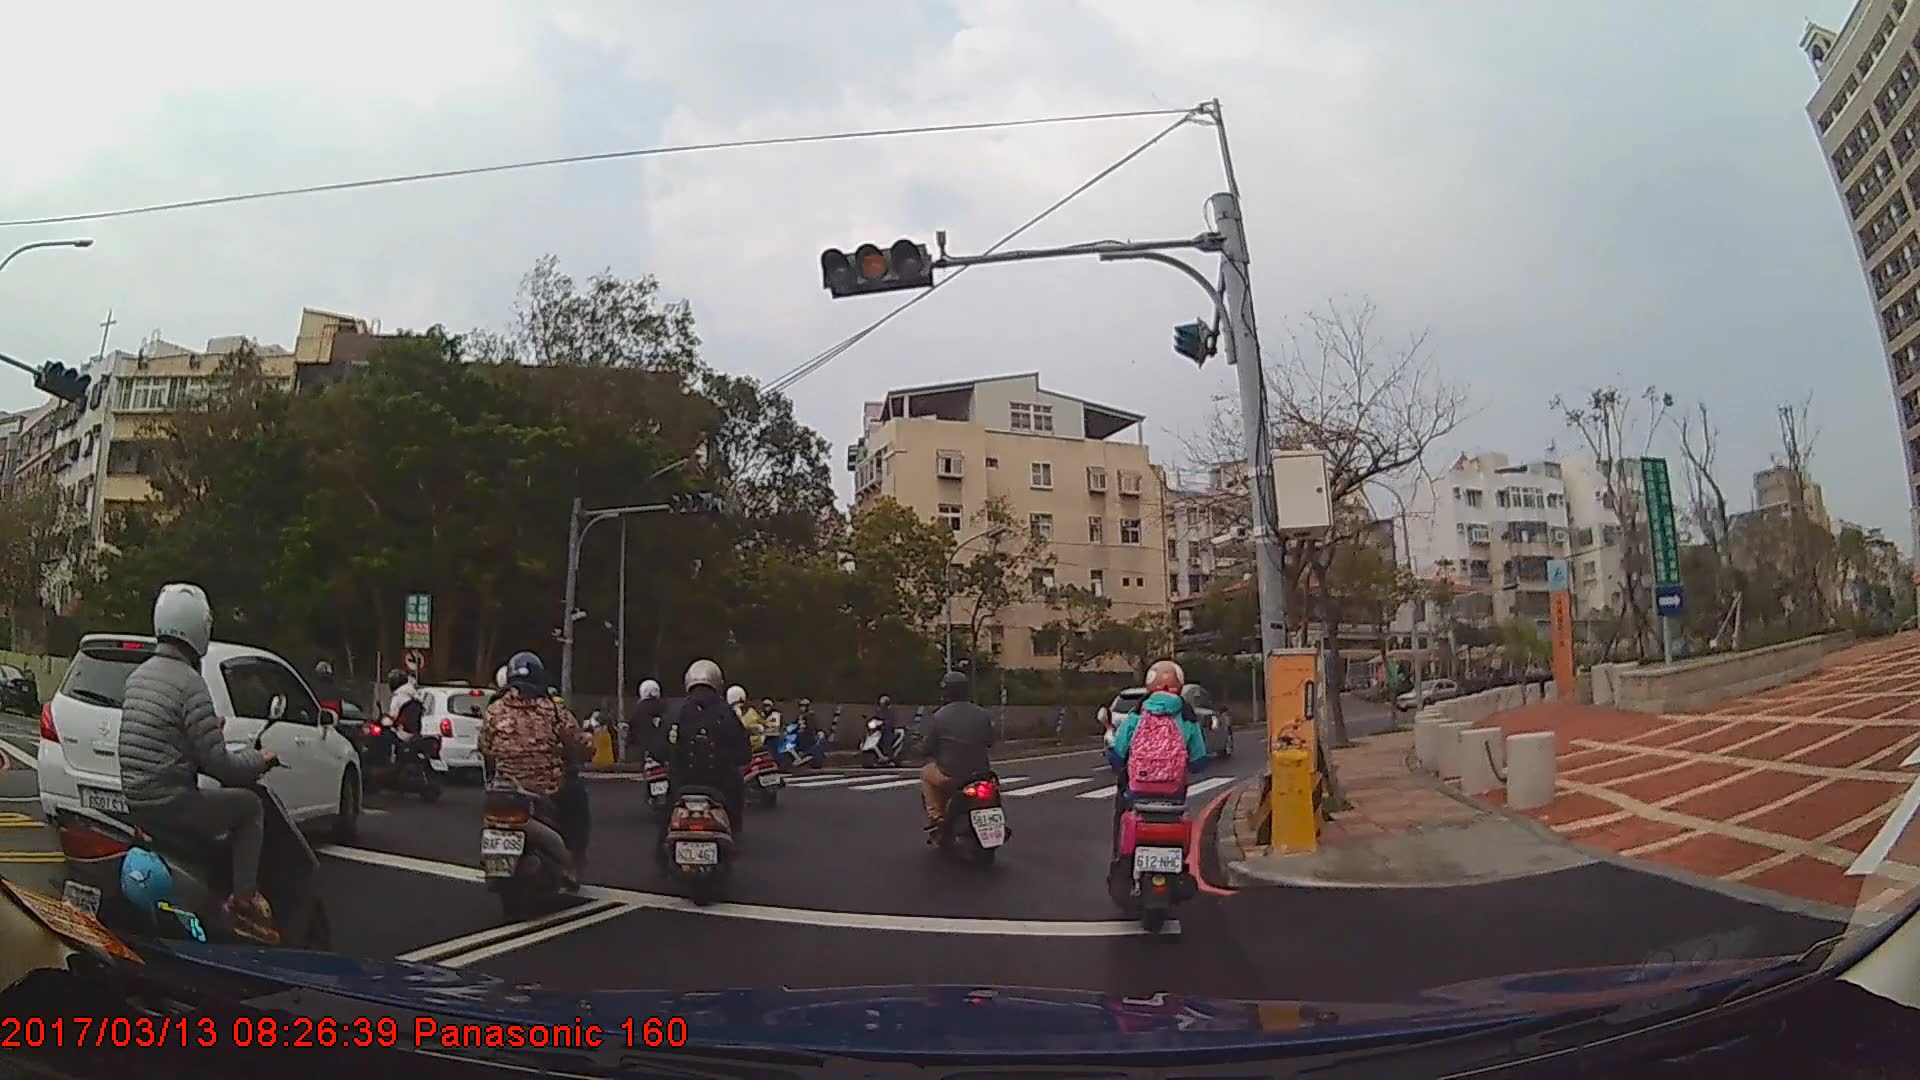rider: (42, 579, 331, 993), (476, 650, 598, 923), (1107, 658, 1215, 929), (653, 661, 754, 908), (915, 666, 1007, 867), (614, 677, 690, 824), (291, 655, 357, 789), (363, 665, 431, 789), (857, 696, 909, 768), (748, 696, 791, 769), (783, 696, 826, 766)
vehicle: (34, 630, 361, 863), (373, 681, 511, 780), (1103, 681, 1232, 768), (1394, 675, 1464, 712)
